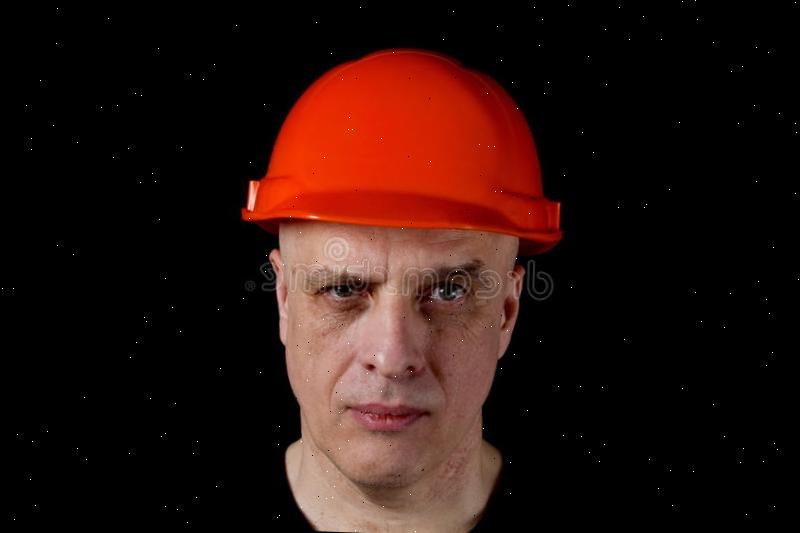helmet: (238, 42, 572, 245)
